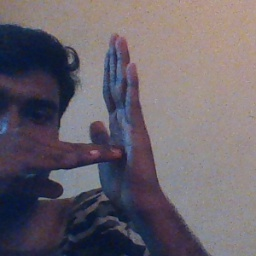Z: (24, 32, 169, 214)
